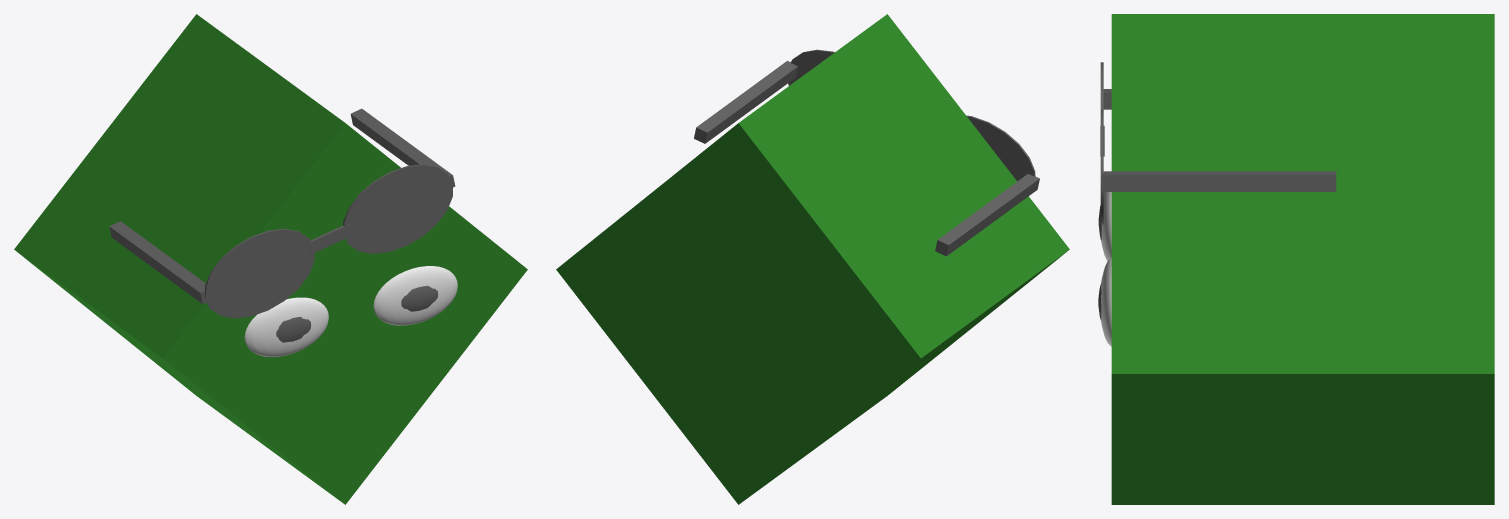
The model's file is Tristan(Simple).fbx.
3 renders of one model, left to right at view 1: azimuth 30°, elevation 25°; view 2: azimuth 150°, elevation 25°; view 3: azimuth 270°, elevation 25°, orthographic. The views are drawn at different scales.
Parts seen in each view (by area): view 1: pCube1, pasted__pCylinder2, pasted__pasted__pSphere1, pSphere1, pasted__pSphere1 (×2); view 2: pCube1, pasted__pCylinder2; view 3: pCube1, pasted__pCylinder2, pasted__pasted__pSphere1, pSphere1.
Boxes of the visible parts, <box> form: pCube1: <box>14,14,527,504</box>; pasted__pCylinder2: <box>109,108,455,318</box>; pasted__pasted__pSphere1: <box>373,266,457,325</box>; pSphere1: <box>244,297,328,356</box>; pasted__pSphere1 (×2): <box>276,285,438,342</box>; pCube1: <box>556,14,1069,504</box>; pasted__pCylinder2: <box>694,49,1039,256</box>; pCube1: <box>1111,14,1494,504</box>; pasted__pCylinder2: <box>1100,62,1336,224</box>; pasted__pasted__pSphere1: <box>1101,257,1111,346</box>; pSphere1: <box>1101,192,1111,261</box>.
Bounding box in the file's own units: 38.18 × 38.18 × 27.94.
